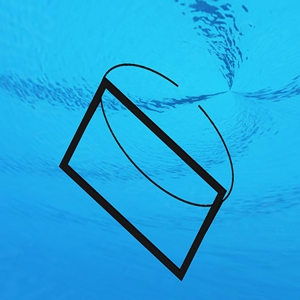circle: (58, 57, 247, 284)
